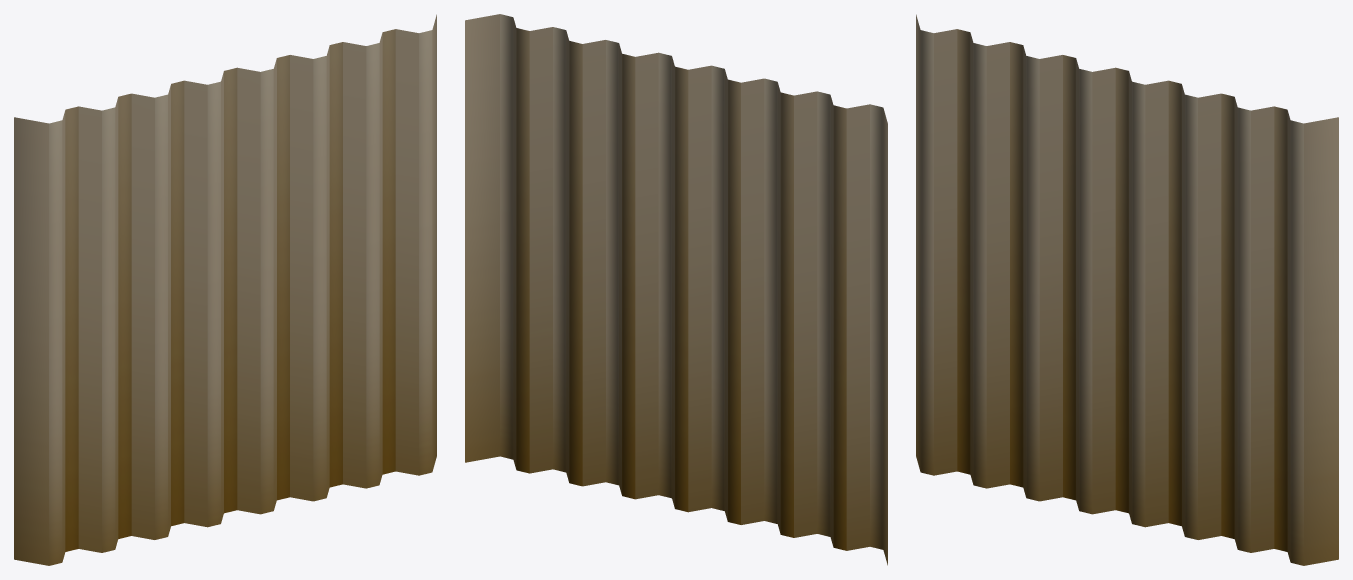
The model's file is SM_Fence_05.fbx.
3 renders of one model, left to right at view 1: azimuth 30°, elevation 25°; view 2: azimuth 150°, elevation 25°; view 3: azimuth 330°, elevation 25°, orthographic.
Visible parts, largest first — view 1: SM_Fence_05; view 2: SM_Fence_05; view 3: SM_Fence_05.
Boxes of the visible parts, x1,y1,x2,y2 form: SM_Fence_05: (14,14,436,565); SM_Fence_05: (465,14,887,565); SM_Fence_05: (916,14,1338,565).
Size of the model in its own units: 1 by 1 by 0.0625.
